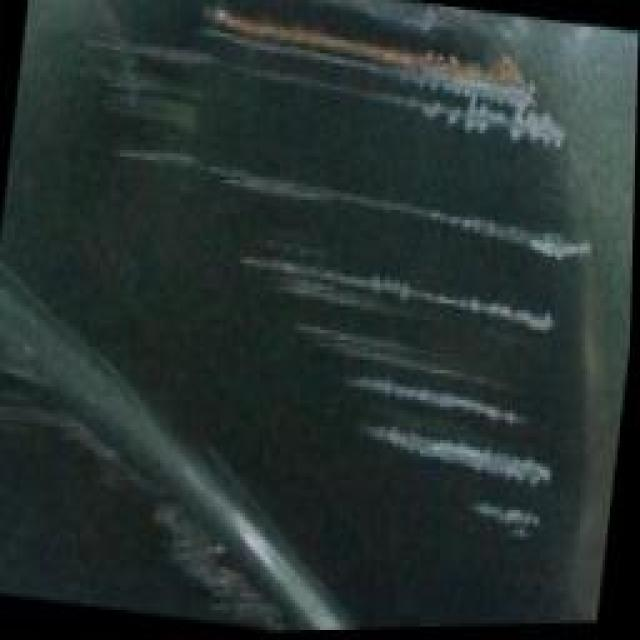Door: (2, 0, 639, 640)
